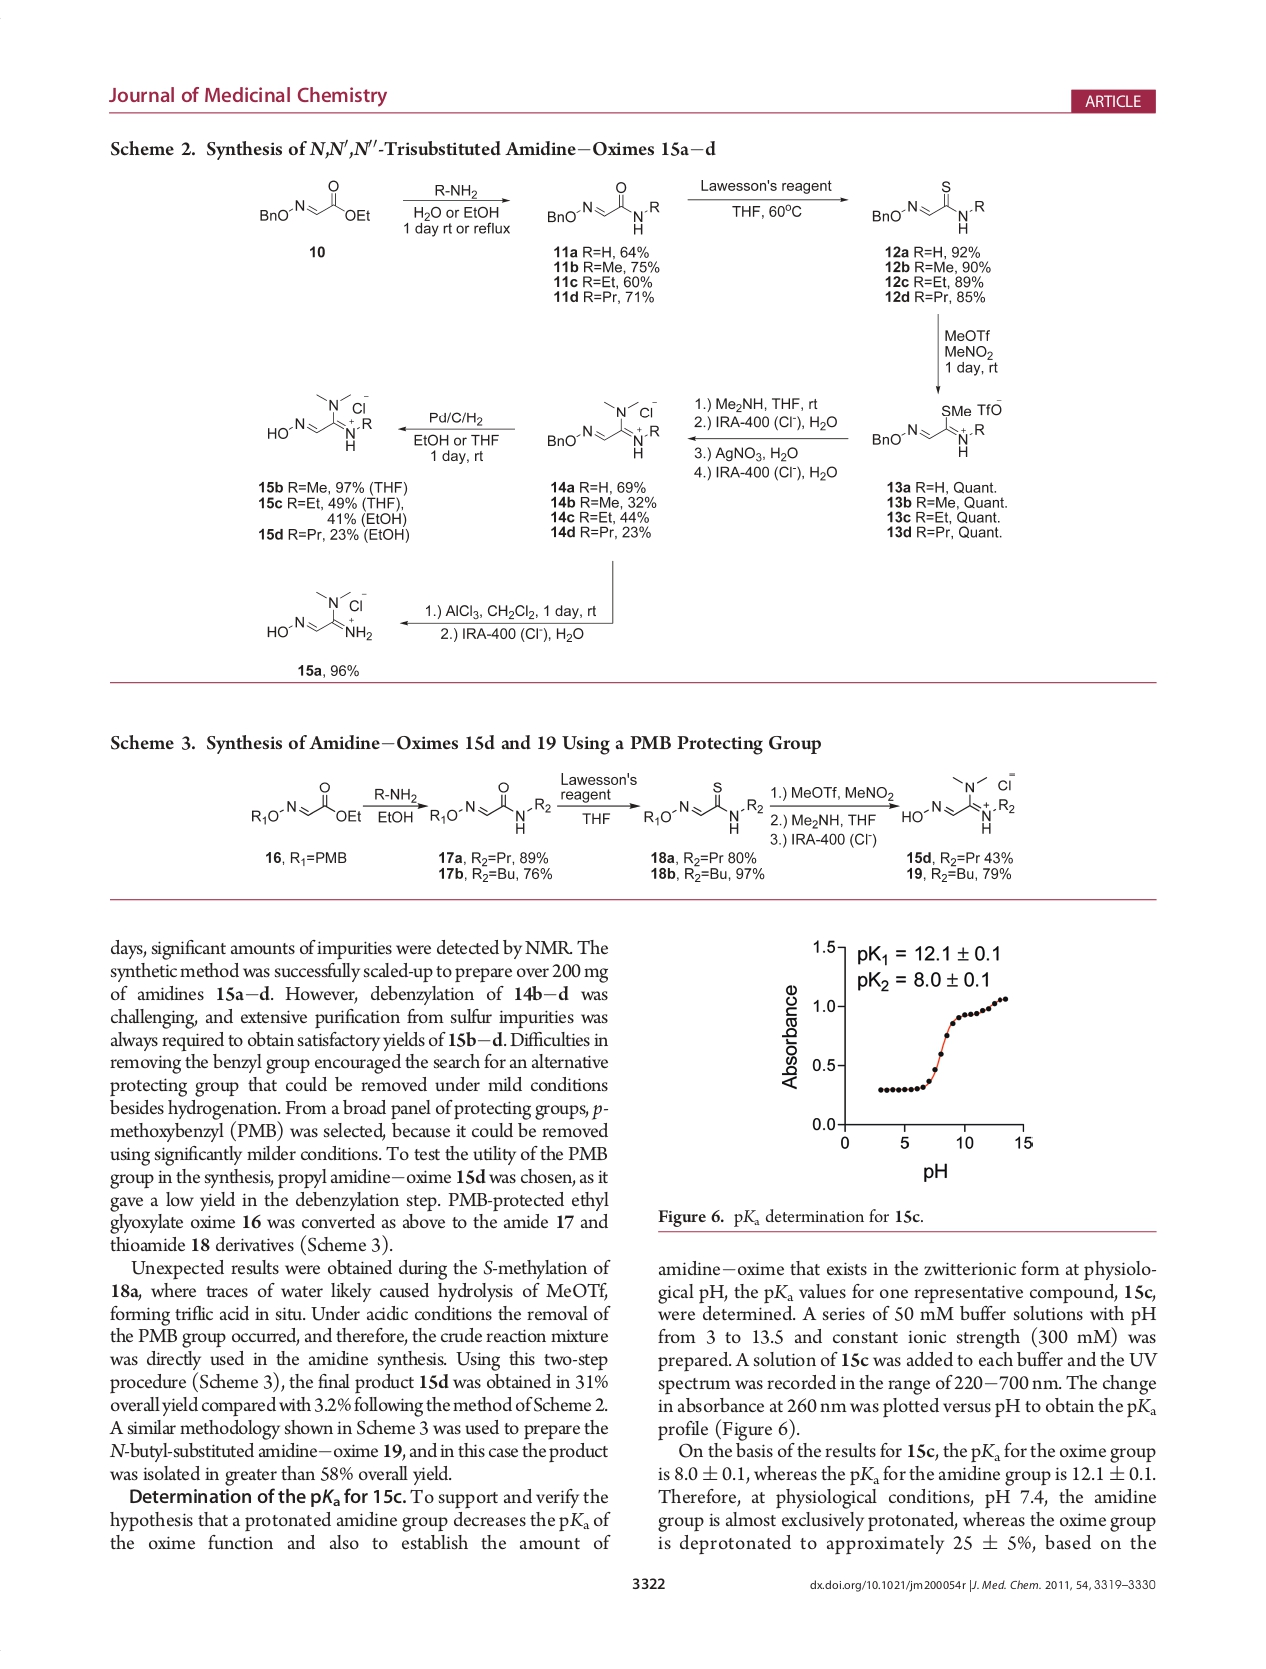exist_molecular: (868, 396, 1005, 461), (898, 771, 1017, 838), (543, 399, 664, 461), (427, 781, 553, 840), (870, 176, 988, 239), (262, 391, 375, 453), (544, 180, 661, 239), (642, 779, 766, 834), (263, 589, 376, 646), (257, 174, 376, 227), (247, 779, 362, 829)
